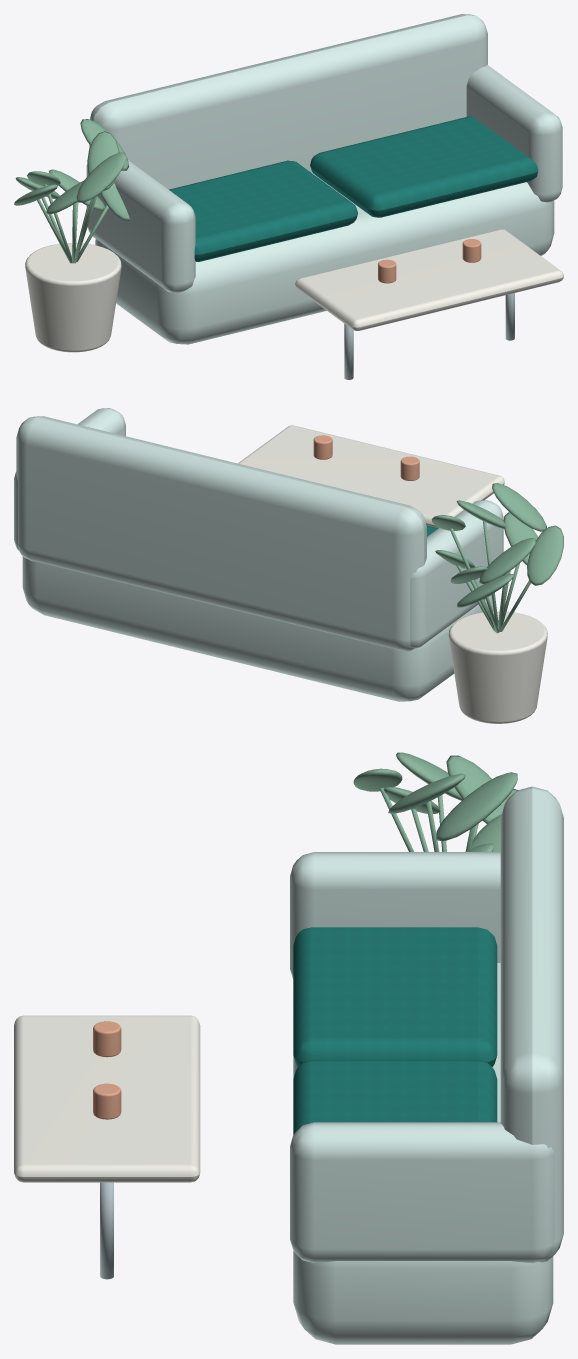
File: rest.glb
The picture shows the model from 3 angles, top to bottom: view 1: azimuth 30°, elevation 25°; view 2: azimuth 150°, elevation 25°; view 3: azimuth 270°, elevation 25°; orthographic projection. The views are drawn at different scales.
Visible parts, largest first — view 1: rest__Linen upholstery, rest__Matte woven drape, rest__Cabinet ivory, rest__Sage foliage, rest__Brushed aluminium, rest__Warm clay accent; view 2: rest__Linen upholstery, rest__Cabinet ivory, rest__Sage foliage, rest__Warm clay accent; view 3: rest__Linen upholstery, rest__Matte woven drape, rest__Cabinet ivory, rest__Sage foliage, rest__Warm clay accent, rest__Brushed aluminium.
Part boxes in pixels (left/top/right/bottom): rest__Linen upholstery: left=86, top=14, right=562, bottom=344; rest__Matte woven drape: left=169, top=116, right=538, bottom=261; rest__Cabinet ivory: left=25, top=229, right=563, bottom=352; rest__Sage foliage: left=14, top=119, right=129, bottom=263; rest__Brushed aluminium: left=344, top=293, right=514, bottom=379; rest__Warm clay accent: left=378, top=239, right=481, bottom=283; rest__Linen upholstery: left=14, top=408, right=503, bottom=701; rest__Cabinet ivory: left=238, top=425, right=547, bottom=723; rest__Sage foliage: left=431, top=483, right=563, bottom=633; rest__Warm clay accent: left=313, top=435, right=419, bottom=480; rest__Linen upholstery: left=290, top=786, right=563, bottom=1344; rest__Matte woven drape: left=293, top=927, right=497, bottom=1134; rest__Cabinet ivory: left=14, top=1015, right=200, bottom=1182; rest__Sage foliage: left=353, top=752, right=517, bottom=851; rest__Warm clay accent: left=93, top=1021, right=121, bottom=1119; rest__Brushed aluminium: left=100, top=1182, right=113, bottom=1279.
Bounding box in the file's own units: 2.47 × 0.95 × 1.57.
Materials: 6 (1 with a texture image).
